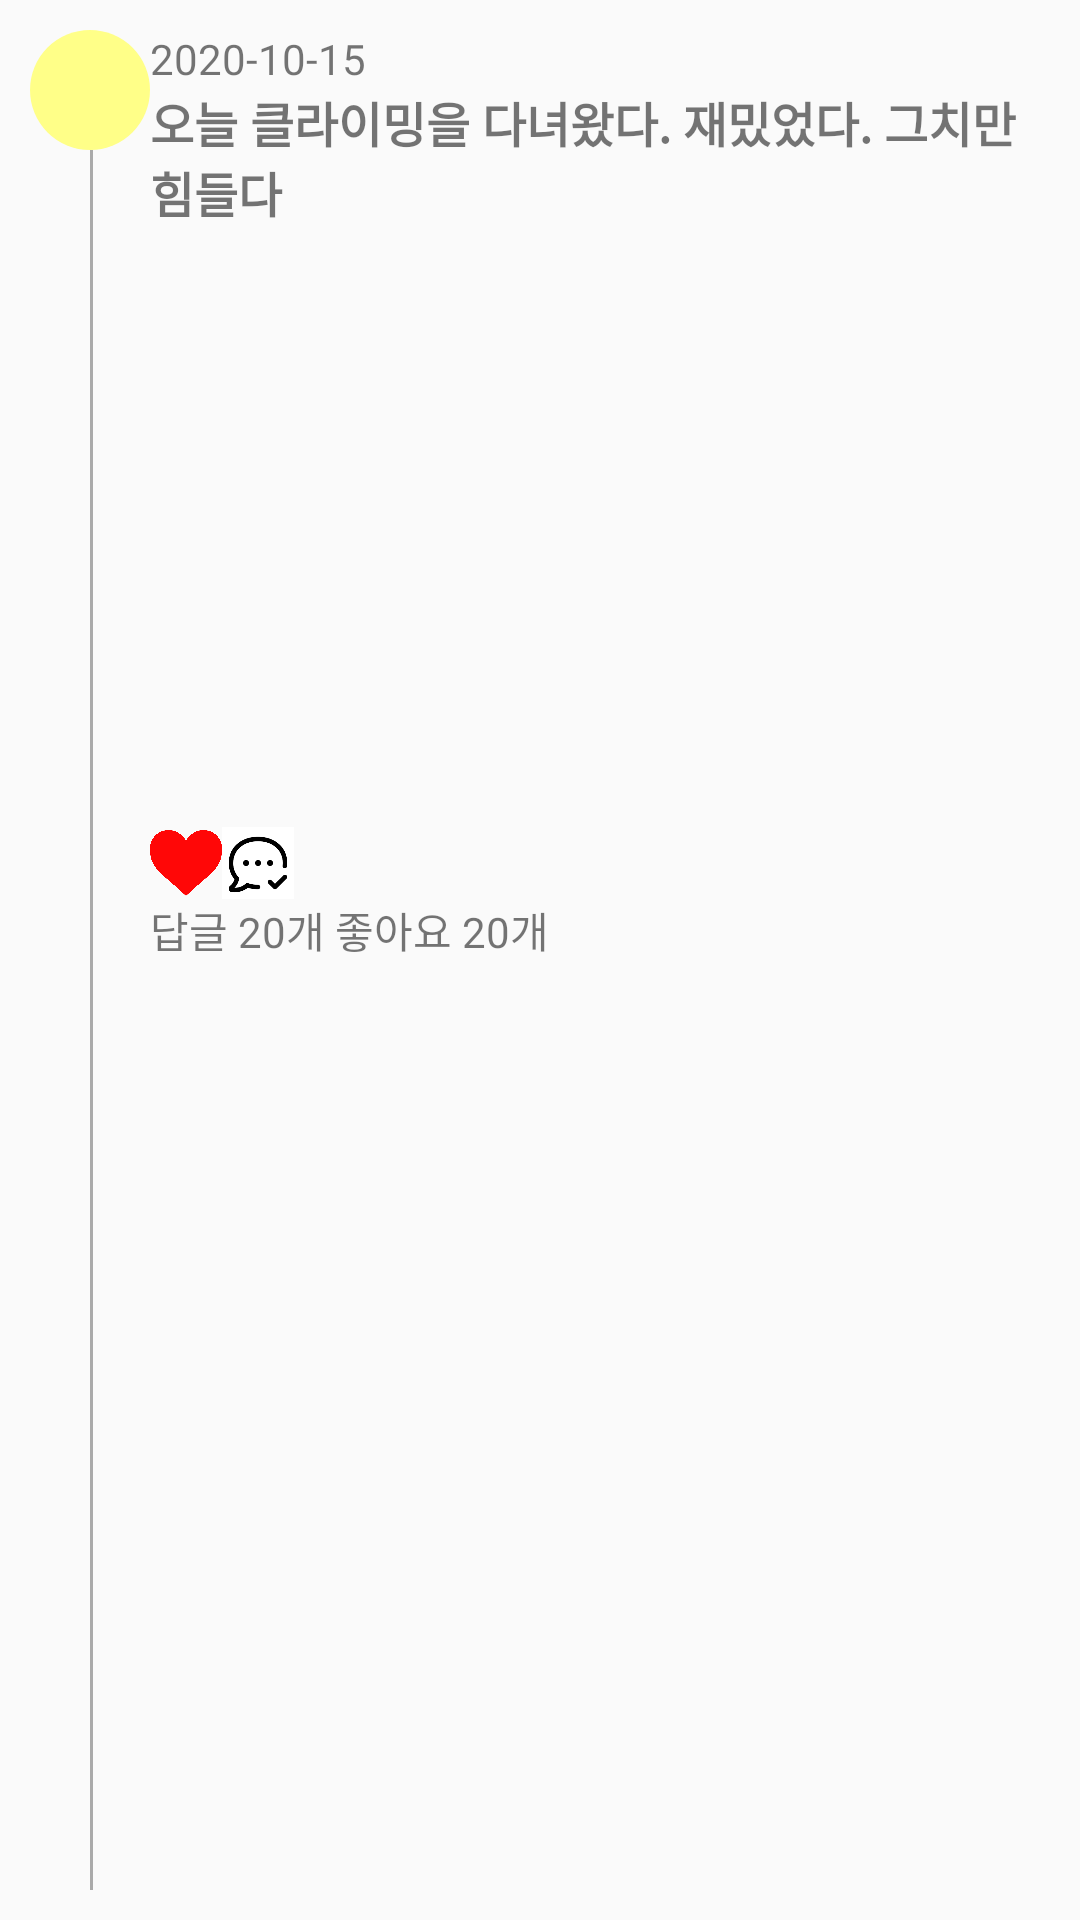

Icon bounding boxes for this 1080x1920 phone screenshot, format box=[x1, y1, x2, y2]:
heart: box=[150, 830, 222, 895]
